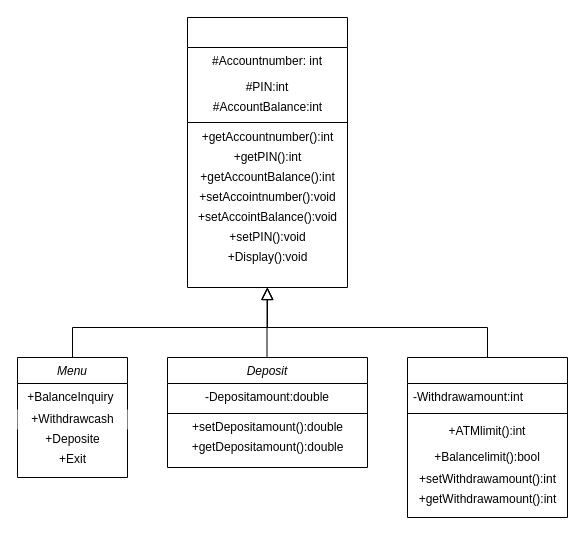
This 585x535 diagram has some shape labels left out. The shapes that lost their labels are listed below. From the top down, each one's box as (x1, y1, x2, y2) in pixels, then its label:
(186, 16, 348, 288): Account info
(406, 356, 568, 518): Withddraw
